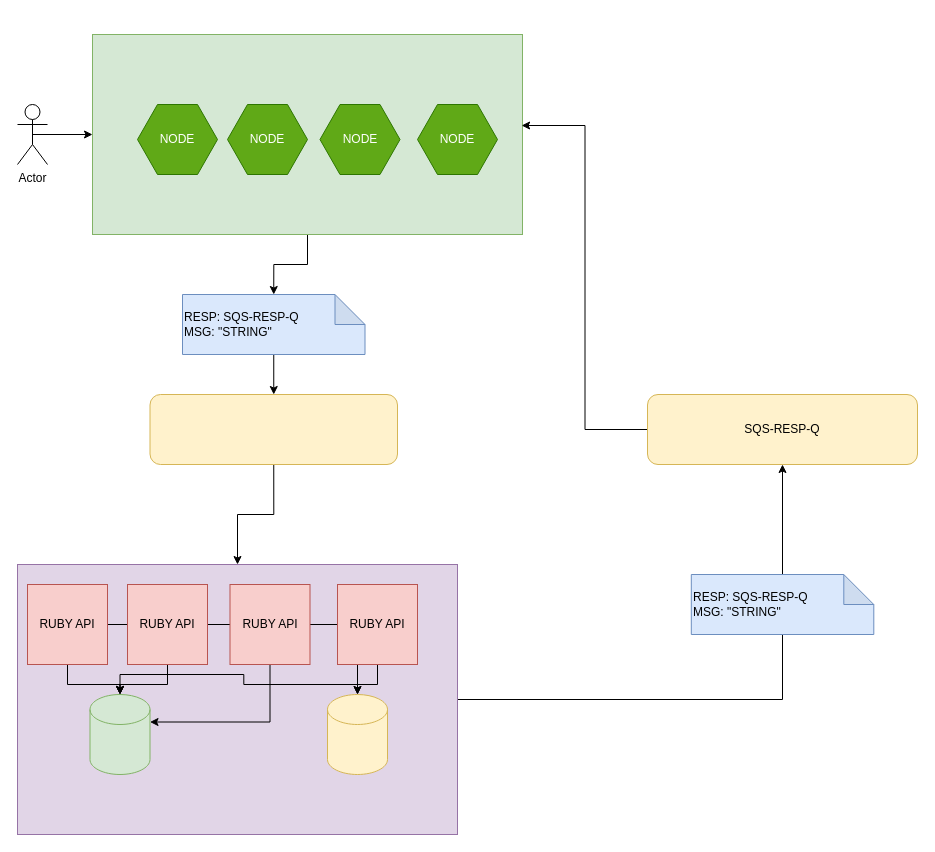
Some shapes in this 935 by 852 pixel diagram are drawn without their labels. The shapes that lost their labels are listed below. From the top down, each one's box as (x1, y1, x2, y2) in pixels, then its label:
(92, 34, 522, 234): API GATEWAY
(149, 394, 398, 464): SQS
(16, 564, 458, 834): API RESOLVER
(89, 694, 150, 774): DB
(326, 694, 388, 774): ELS
